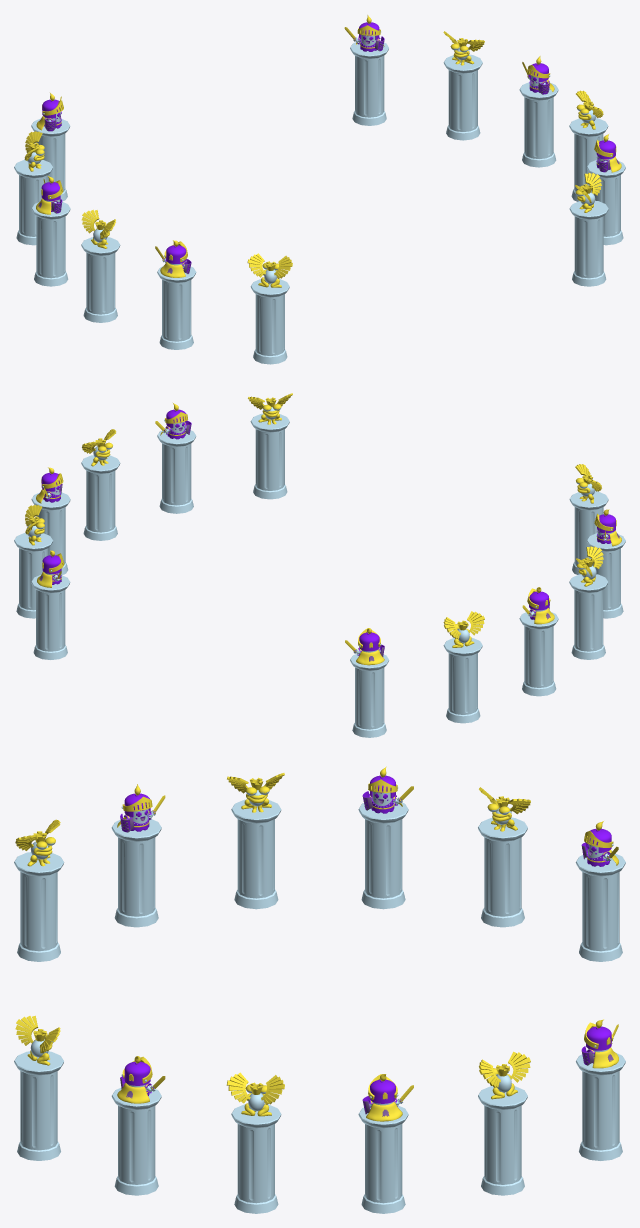
The model's file is Monuments.fbx.
3 renders of one model, top to bottom at view 1: azimuth 30°, elevation 25°; view 2: azimuth 150°, elevation 25°; view 3: azimuth 270°, elevation 25°, orthographic. The views are drawn at different scales.
Parts seen in each view (by area): view 1: Monuments_LOD0; view 2: Monuments_LOD0; view 3: Monuments_LOD0.
Boxes of the visible parts, x1,y1,x2,y2 form: Monuments_LOD0: [14, 15, 625, 364]; Monuments_LOD0: [14, 393, 625, 737]; Monuments_LOD0: [14, 766, 625, 1213].
Size of what is drawn, in the model's own units: 7036 by 1332 by 5583.
